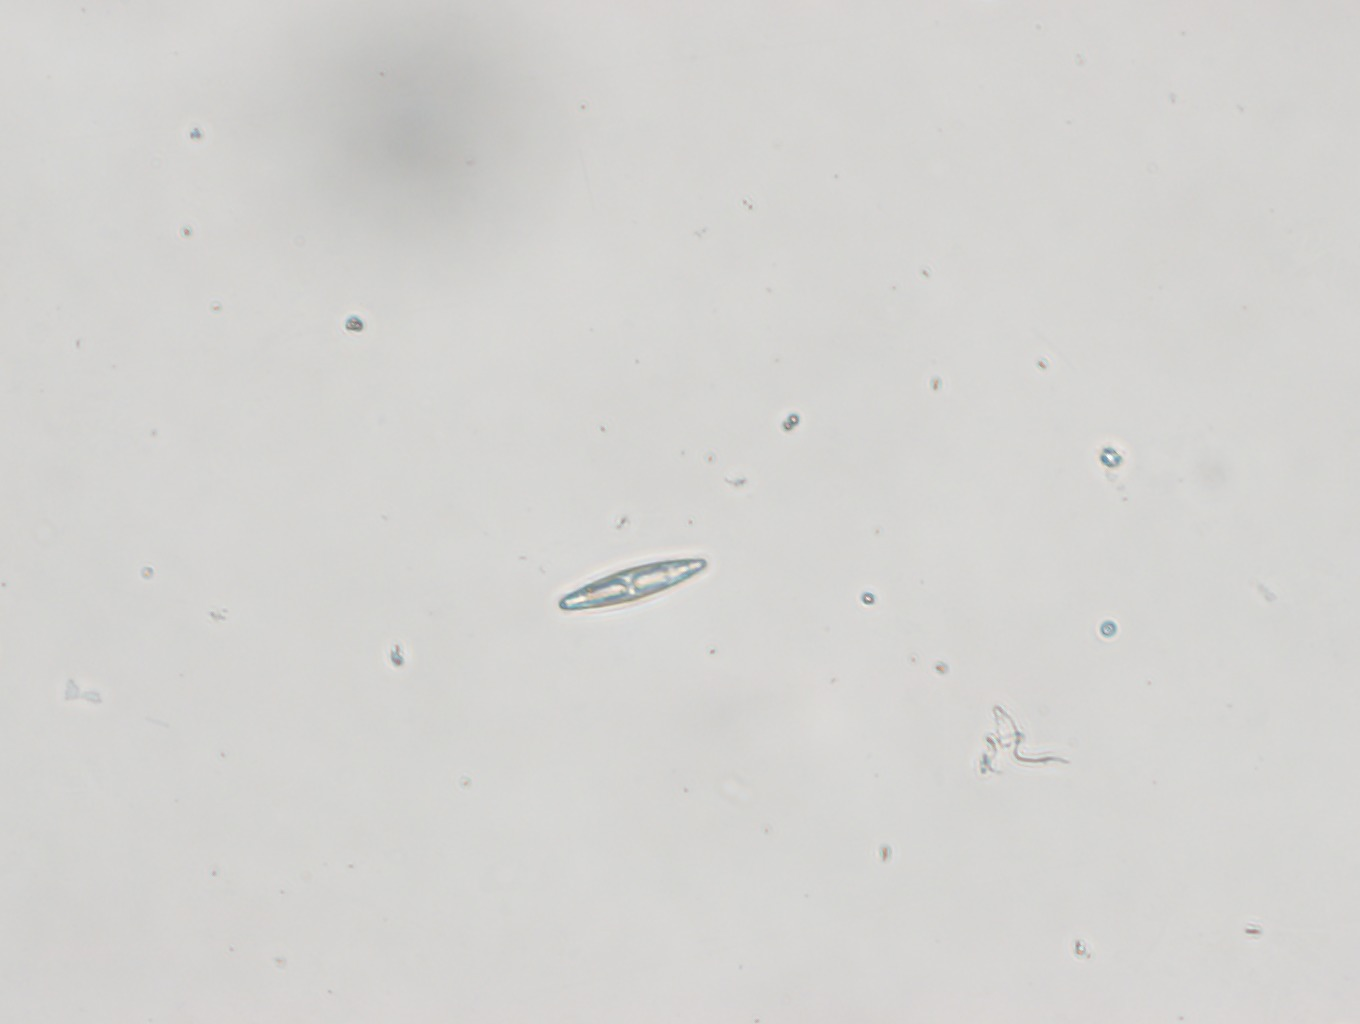navicula: (553, 552, 718, 614)
